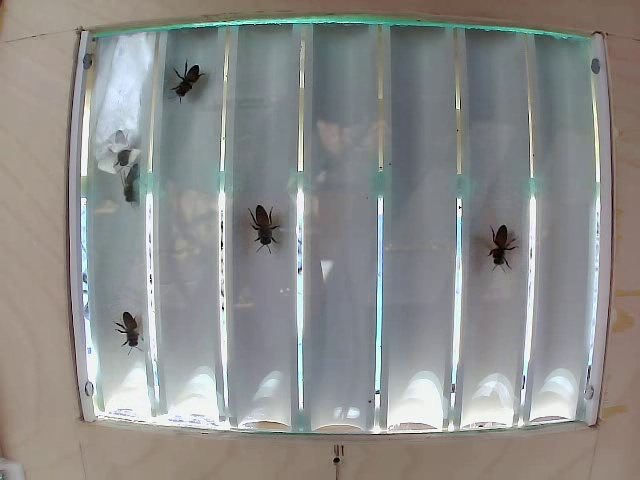bee: (229, 190, 284, 260), (475, 201, 524, 278), (117, 157, 152, 229), (168, 56, 213, 108), (106, 305, 154, 348)
